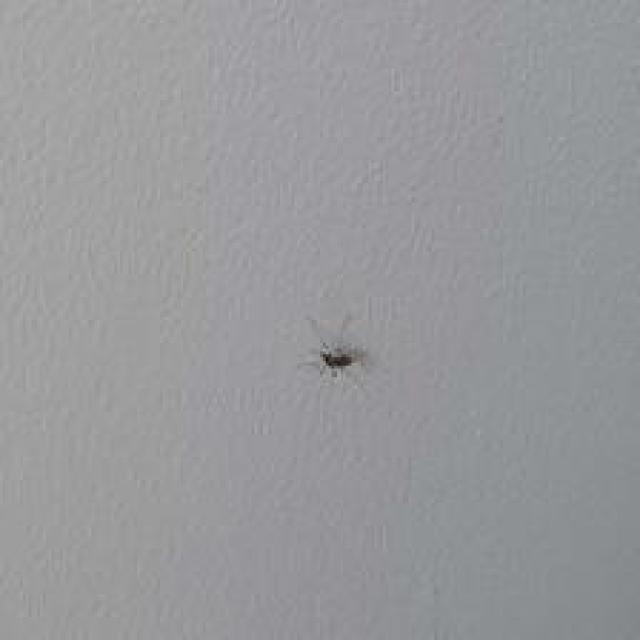Culex: (306, 340, 366, 380)
